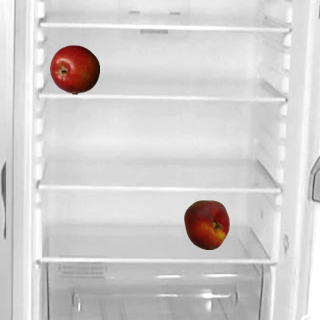Apple Braeburn: (49, 44, 99, 94)
Nectarine Flat: (181, 199, 231, 249)
